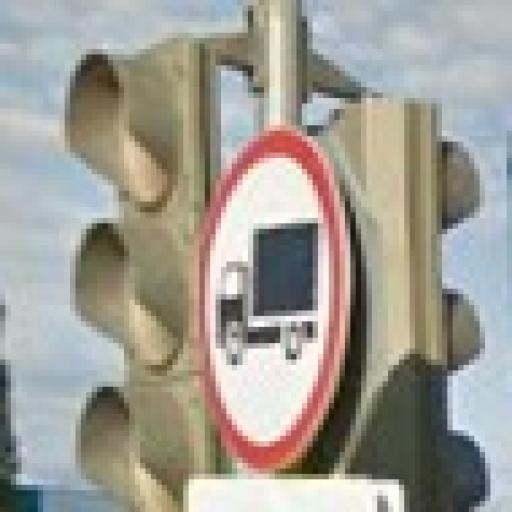traffic_sign: (190, 127, 357, 470)
